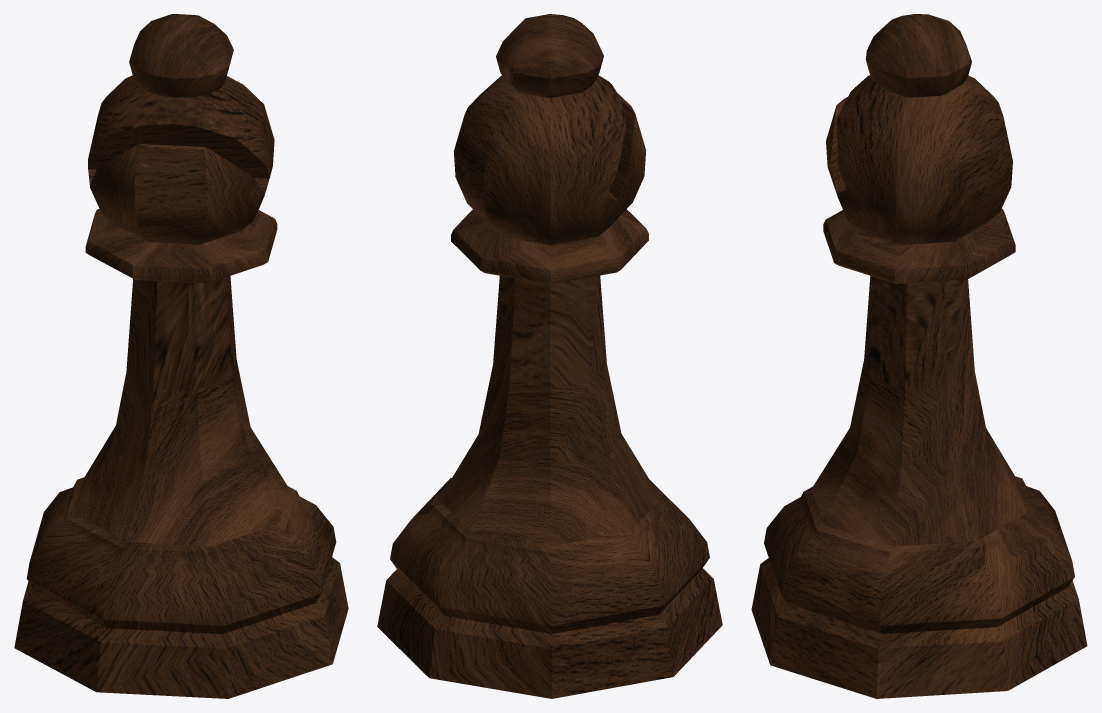
Rendered from BlackBishop.gltf.
3 views of the same model, side by side, from view 1: azimuth 30°, elevation 25°; view 2: azimuth 150°, elevation 25°; view 3: azimuth 270°, elevation 25° (orthographic).
Visible parts, largest first — view 1: Object_12; view 2: Object_12; view 3: Object_12.
Part boxes in pixels (x1,y1,x2,y2): Object_12: (14,14,348,698); Object_12: (377,14,722,698); Object_12: (751,14,1087,698).
Bounding box in the file's own units: 0.0288 × 0.0576 × 0.0288.
Materials: 1 (1 with a texture image).
